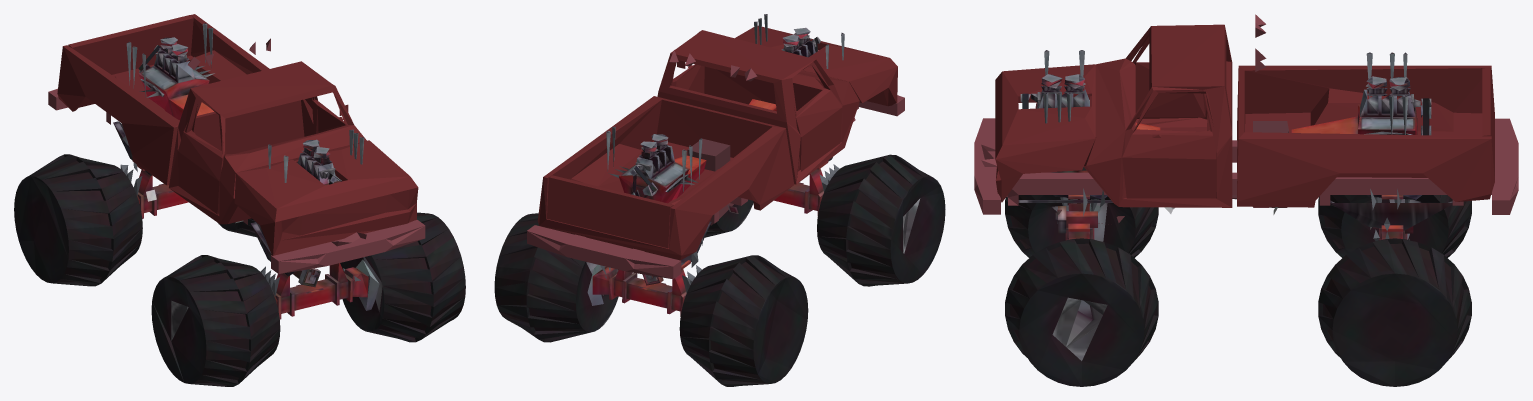
The model's file is monster_lo.glb.
3 renders of one model, left to right at view 1: azimuth 30°, elevation 25°; view 2: azimuth 150°, elevation 25°; view 3: azimuth 270°, elevation 25°, orthographic. The views are drawn at different scales.
Visible parts, largest first — view 1: BODY, W3, W1, W0; view 2: BODY, W1, W3, W2, W0; view 3: BODY, W2, W0, W1, W3.
Boxes of the visible parts, bbox=[...] form: BODY: bbox=[48, 14, 425, 319]; W3: bbox=[14, 154, 142, 286]; W1: bbox=[151, 255, 280, 386]; W0: bbox=[340, 212, 465, 342]; BODY: bbox=[527, 14, 904, 316]; W1: bbox=[817, 154, 945, 286]; W3: bbox=[679, 255, 808, 386]; W2: bbox=[494, 213, 618, 342]; W0: bbox=[705, 199, 753, 237]; BODY: bbox=[974, 14, 1518, 240]; W2: bbox=[1318, 238, 1471, 386]; W0: bbox=[1005, 238, 1158, 386]; W1: bbox=[1005, 167, 1158, 257]; W3: bbox=[1318, 195, 1471, 257].
Bounding box in the file's own units: 3.38 × 3.2 × 5.39.
5 materials, 4 textured.
